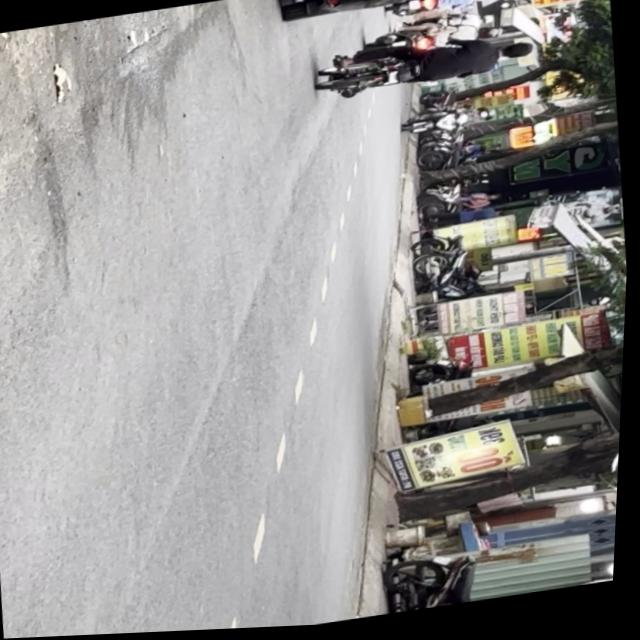licenseplate: (314, 26, 542, 108)
motorcyclist: (500, 44, 541, 67)
